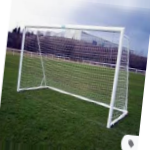goals: (16, 22, 128, 126)
